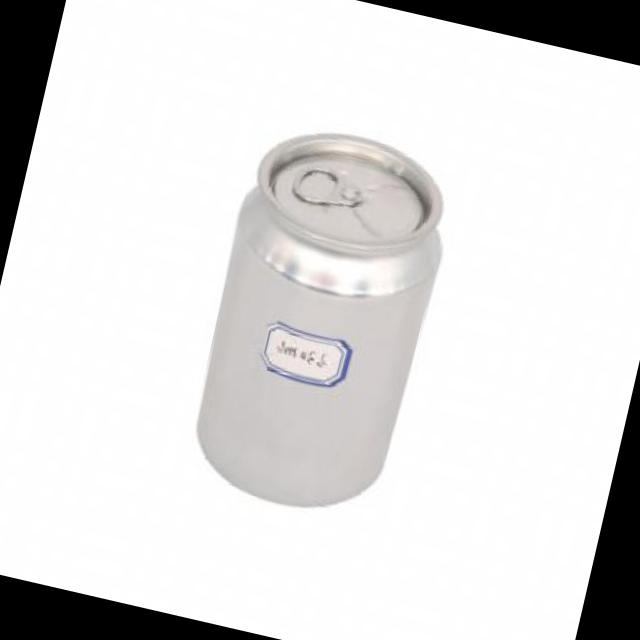Kaleng: (176, 111, 467, 527)
